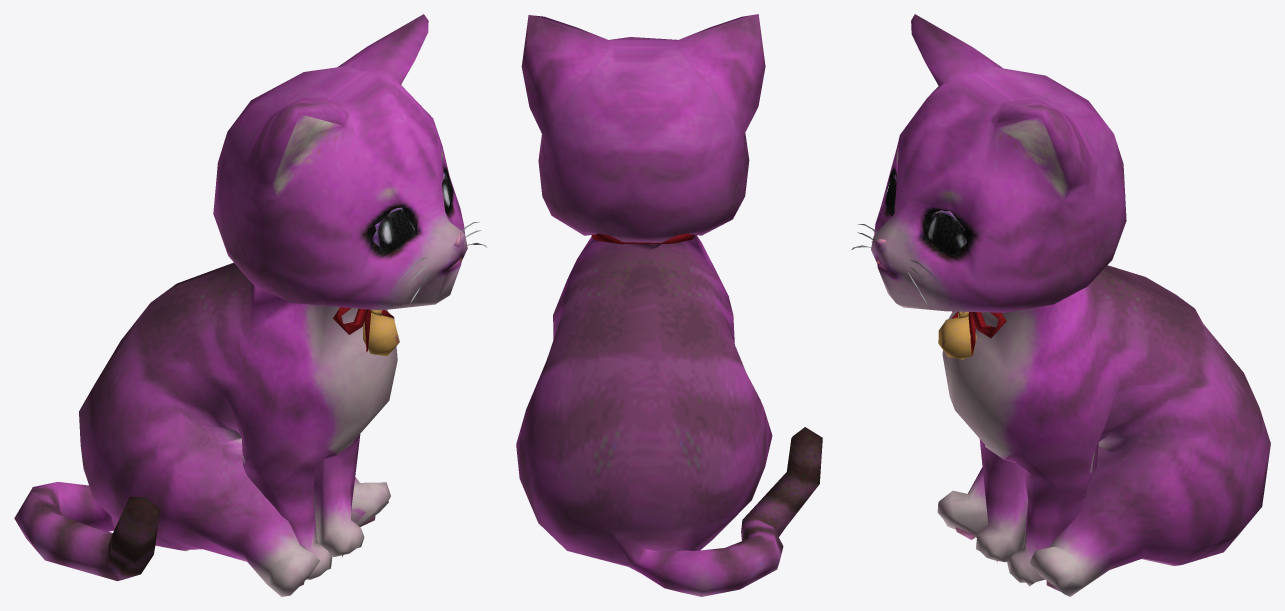
File: plushpinkkitten.fbx
3 renders of one model, left to right at view 1: azimuth 30°, elevation 25°; view 2: azimuth 150°, elevation 25°; view 3: azimuth 270°, elevation 25°, orthographic. The views are drawn at different scales.
Visible parts, largest first — view 1: 25_+brown_0.5_0_0; view 2: 25_+brown_0.5_0_0; view 3: 25_+brown_0.5_0_0.
Boxes of the visible parts, <box> form: 25_+brown_0.5_0_0: <box>14,14,486,596</box>; 25_+brown_0.5_0_0: <box>516,14,822,596</box>; 25_+brown_0.5_0_0: <box>851,14,1270,596</box>.
Size of the model in its own units: 0.4455 by 0.6466 by 0.4672.
